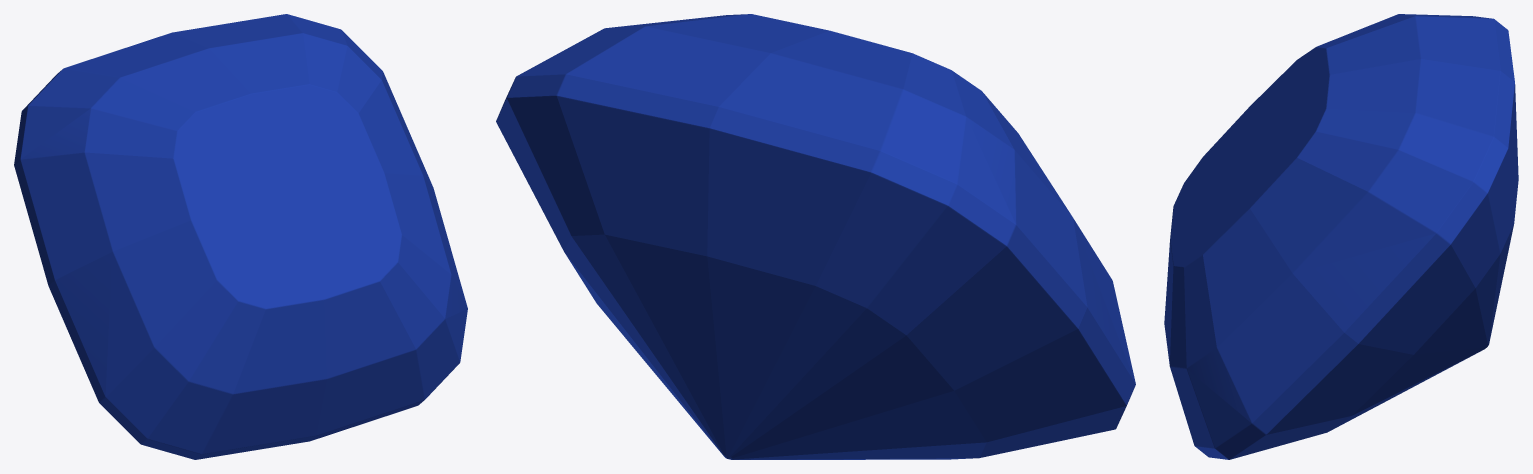
Rendered from sapphire.glb.
The picture shows the model from 3 angles, left to right: view 1: azimuth 30°, elevation 25°; view 2: azimuth 150°, elevation 25°; view 3: azimuth 270°, elevation 25°; orthographic projection. The views are drawn at different scales.
Visible parts, largest first — view 1: sapphire.001; view 2: sapphire.001; view 3: sapphire.001.
Boxes of the visible parts, bbox=[...] form: sapphire.001: bbox=[14, 14, 467, 459]; sapphire.001: bbox=[496, 14, 1135, 459]; sapphire.001: bbox=[1164, 14, 1518, 459].
Bounding box in the file's own units: 2.1 × 1.69 × 1.57.
